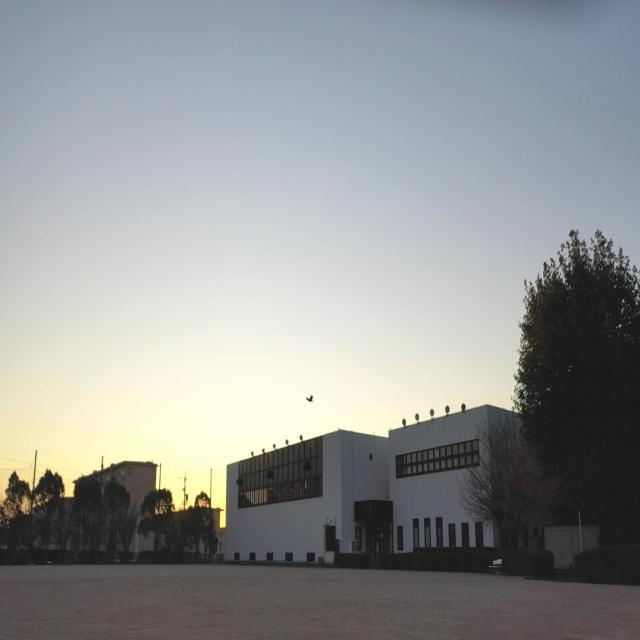Birds: (304, 392, 316, 404)
